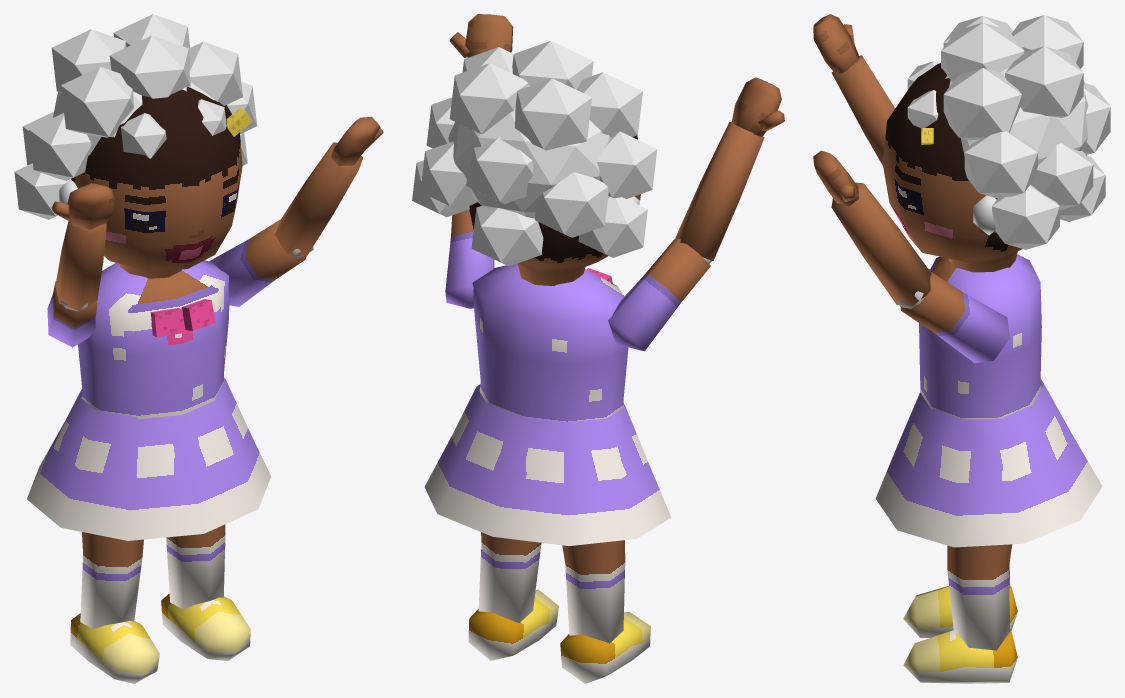
Rendered from Kid Curly.fbx.
3 renders of one model, left to right at view 1: azimuth 30°, elevation 25°; view 2: azimuth 150°, elevation 25°; view 3: azimuth 270°, elevation 25°, orthographic. The views are drawn at different scales.
Visible parts, largest first — view 1: Kid Curly skirt, Kid Curly head, Kid Curly torso, Kid Curly leg R.001, Kid Curly arm L forearm.001, Kid Curly shoe L, Kid Curly shoe R, Kid Curly leg L.001, Kid Curly curl 2, Kid Curly curl 0, Kid Curly arm L upper, Kid Curly arm R forearm.001 (+14 smaller); view 2: Kid Curly skirt, Kid Curly torso, Kid Curly hair hair cap, Kid Curly arm R forearm.001, Kid Curly leg R.001, Kid Curly arm R upper, Kid Curly leg L.001, Kid Curly curl 8, Kid Curly curl 7, Kid Curly shoe R, Kid Curly curl 11, Kid Curly shoe L (+14 smaller); view 3: Kid Curly skirt, Kid Curly head, Kid Curly torso, Kid Curly leg L.001, Kid Curly arm L forearm.001, Kid Curly arm L upper, Kid Curly shoe L, Kid Curly curl 1, Kid Curly curl 7, Kid Curly curl 3, Kid Curly curl 0, Kid Curly curl 5 (+12 smaller).
Part boxes in pixels (left/top/right/bottom): Kid Curly skirt: left=27, top=378, right=270, bottom=540; Kid Curly head: left=71, top=87, right=242, bottom=278; Kid Curly torso: left=78, top=260, right=229, bottom=419; Kid Curly leg R.001: left=80, top=532, right=143, bottom=628; Kid Curly arm L forearm.001: left=274, top=142, right=363, bottom=255; Kid Curly shoe L: left=161, top=593, right=250, bottom=660; Kid Curly shoe R: left=70, top=613, right=159, bottom=683; Kid Curly leg L.001: left=166, top=524, right=225, bottom=609; Kid Curly curl 2: left=61, top=66, right=133, bottom=137; Kid Curly curl 0: left=109, top=35, right=190, bottom=98; Kid Curly arm L upper: left=209, top=219, right=306, bottom=306; Kid Curly arm R forearm.001: left=55, top=221, right=106, bottom=310; Kid Curly skirt: left=424, top=384, right=671, bottom=545; Kid Curly torso: left=472, top=263, right=628, bottom=422; Kid Curly hair hair cap: left=448, top=85, right=610, bottom=218; Kid Curly arm R forearm.001: left=674, top=121, right=764, bottom=260; Kid Curly leg R.001: left=562, top=540, right=625, bottom=643; Kid Curly arm R upper: left=608, top=238, right=710, bottom=351; Kid Curly leg L.001: left=478, top=532, right=541, bottom=623; Kid Curly curl 8: left=515, top=78, right=591, bottom=150; Kid Curly curl 7: left=449, top=63, right=528, bottom=134; Kid Curly shoe R: left=560, top=612, right=650, bottom=683; Kid Curly curl 11: left=535, top=172, right=608, bottom=237; Kid Curly shoe L: left=468, top=589, right=558, bottom=660; Kid Curly skirt: left=875, top=378, right=1102, bottom=547; Kid Curly head: left=882, top=63, right=1022, bottom=272; Kid Curly torso: left=919, top=254, right=1041, bottom=419; Kid Curly leg L.001: left=947, top=544, right=1012, bottom=650; Kid Curly arm L forearm.001: left=831, top=182, right=931, bottom=305; Kid Curly arm L upper: left=900, top=271, right=1009, bottom=363; Kid Curly shoe L: left=903, top=630, right=1017, bottom=683; Kid Curly curl 1: left=943, top=68, right=1021, bottom=140; Kid Curly curl 7: left=1005, top=46, right=1083, bottom=117; Kid Curly curl 3: left=964, top=131, right=1037, bottom=198; Kid Curly curl 0: left=941, top=22, right=1024, bottom=81; Kid Curly curl 5: left=992, top=184, right=1059, bottom=249.
Bounding box in the file's own units: 0.6593 × 1.18 × 0.4986.
11 materials, 9 textured.
